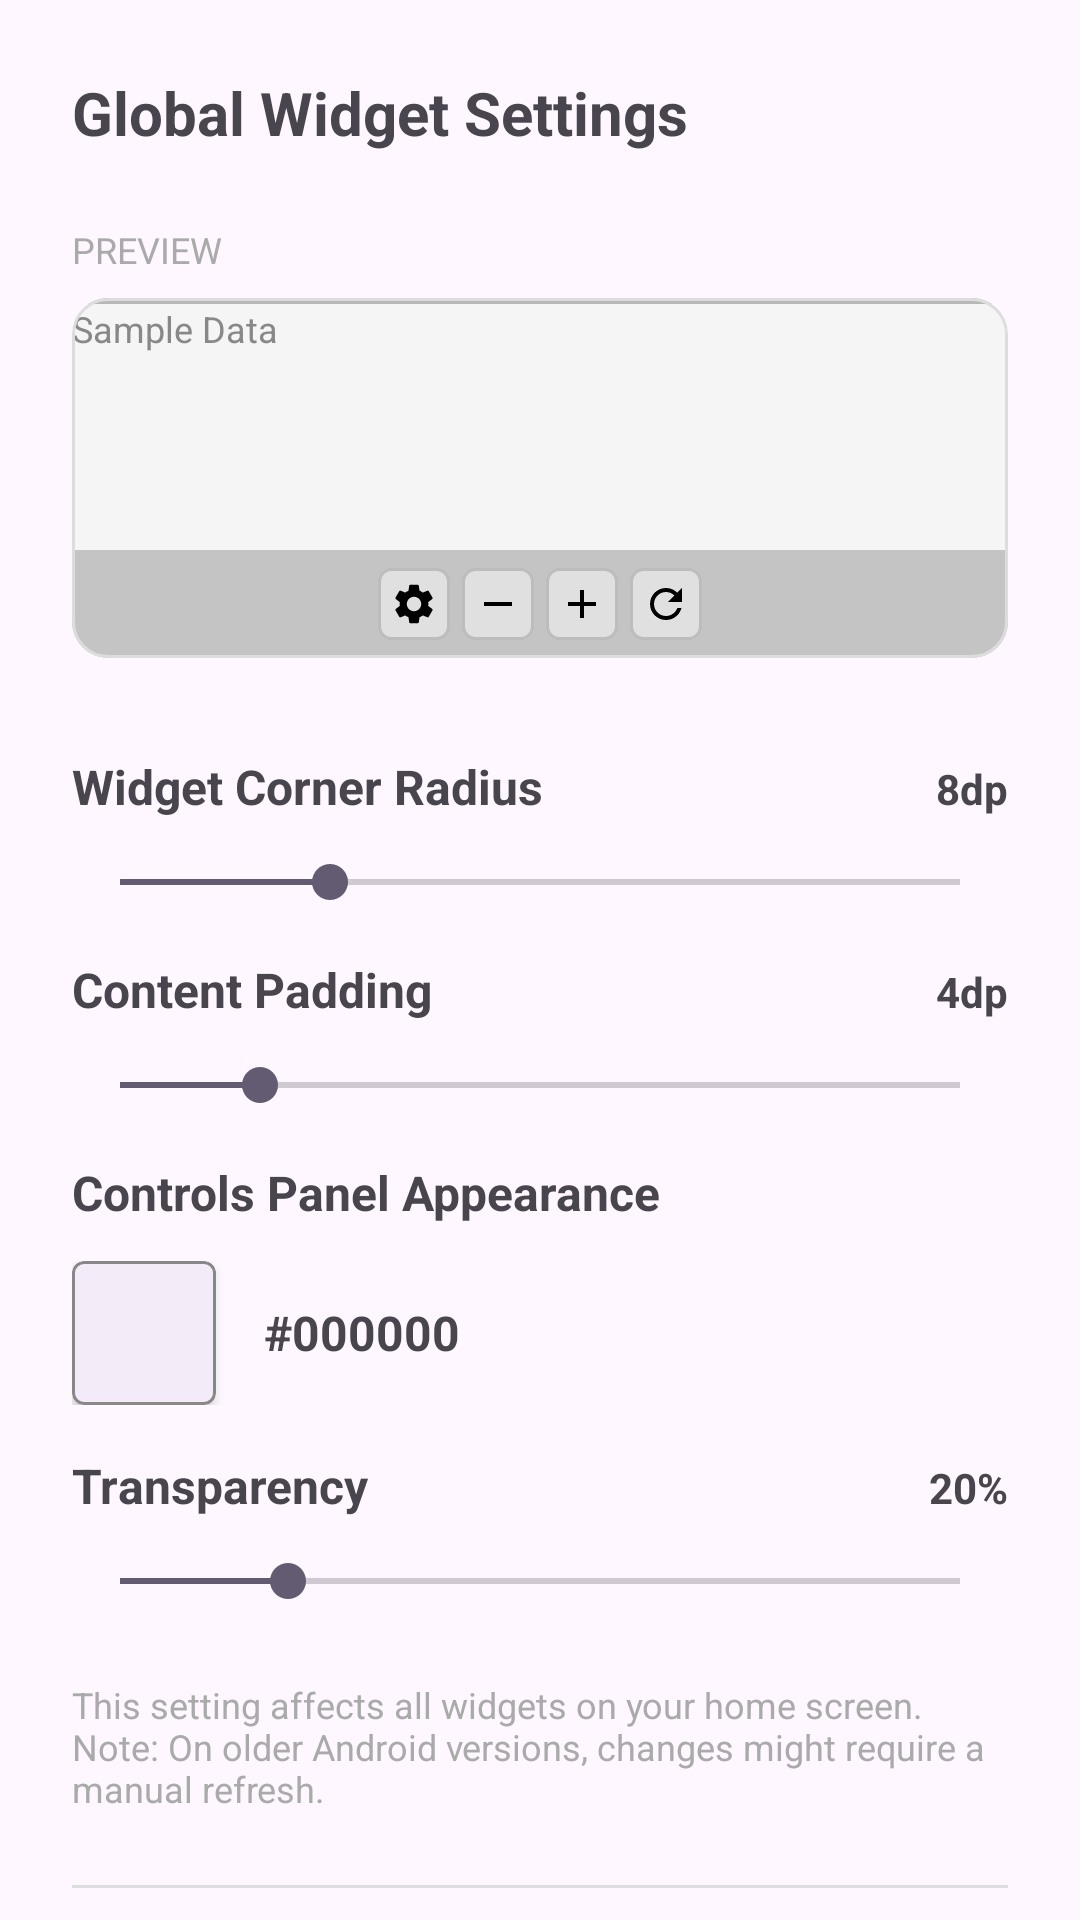

Screen size 1080w x 1920h. Icon name, then its box in pixels as box=[x1, y1, x2, y2]:
widget add: box=[549, 571, 615, 637]
widget refresh: box=[633, 571, 699, 637]
widget remove: box=[465, 571, 531, 637]
widget settings: box=[381, 571, 447, 637]
